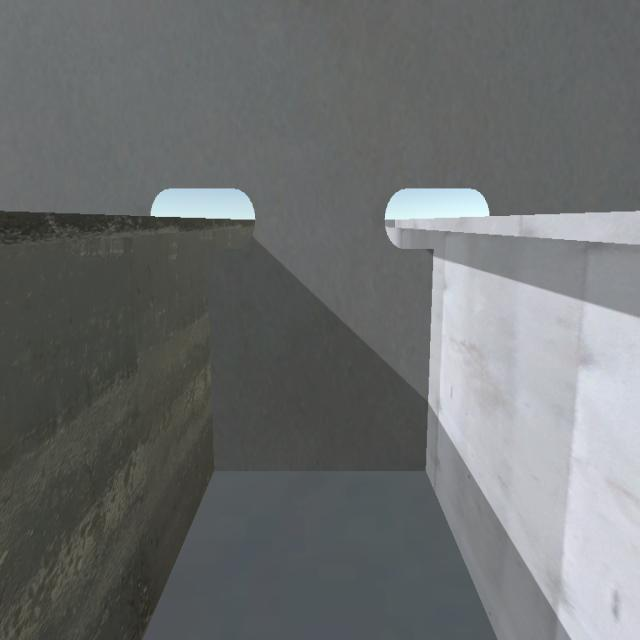fillet_yong_jeop_jang: (209, 460, 432, 480)
longi_yong_jeop_jang: (201, 243, 221, 481), (424, 241, 436, 481)
